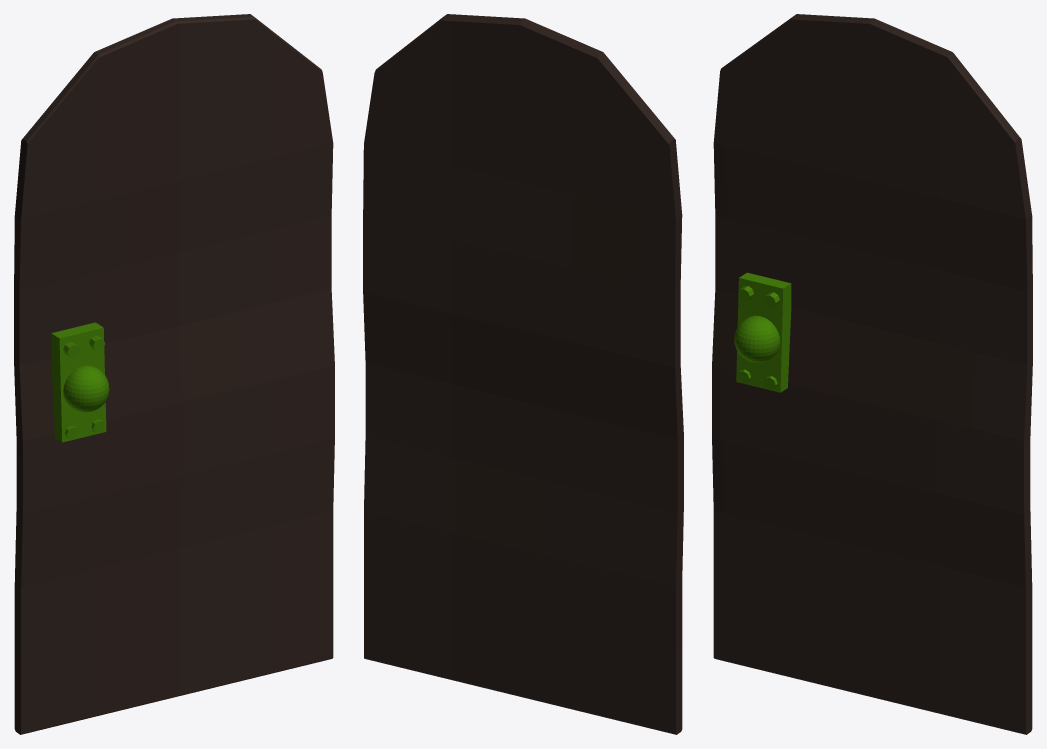
The model's file is Puerta.fbx.
3 views of the same model, side by side, from view 1: azimuth 30°, elevation 25°; view 2: azimuth 150°, elevation 25°; view 3: azimuth 330°, elevation 25° (orthographic).
Visible parts, largest first — view 1: Cube.023; view 2: Cube.023; view 3: Cube.023.
Part boxes in pixels (x1,y1,x2,y2): Cube.023: [14, 14, 334, 734]; Cube.023: [363, 14, 683, 734]; Cube.023: [712, 14, 1032, 734].
Bounding box in the file's own units: 142 × 294 × 22.99.
